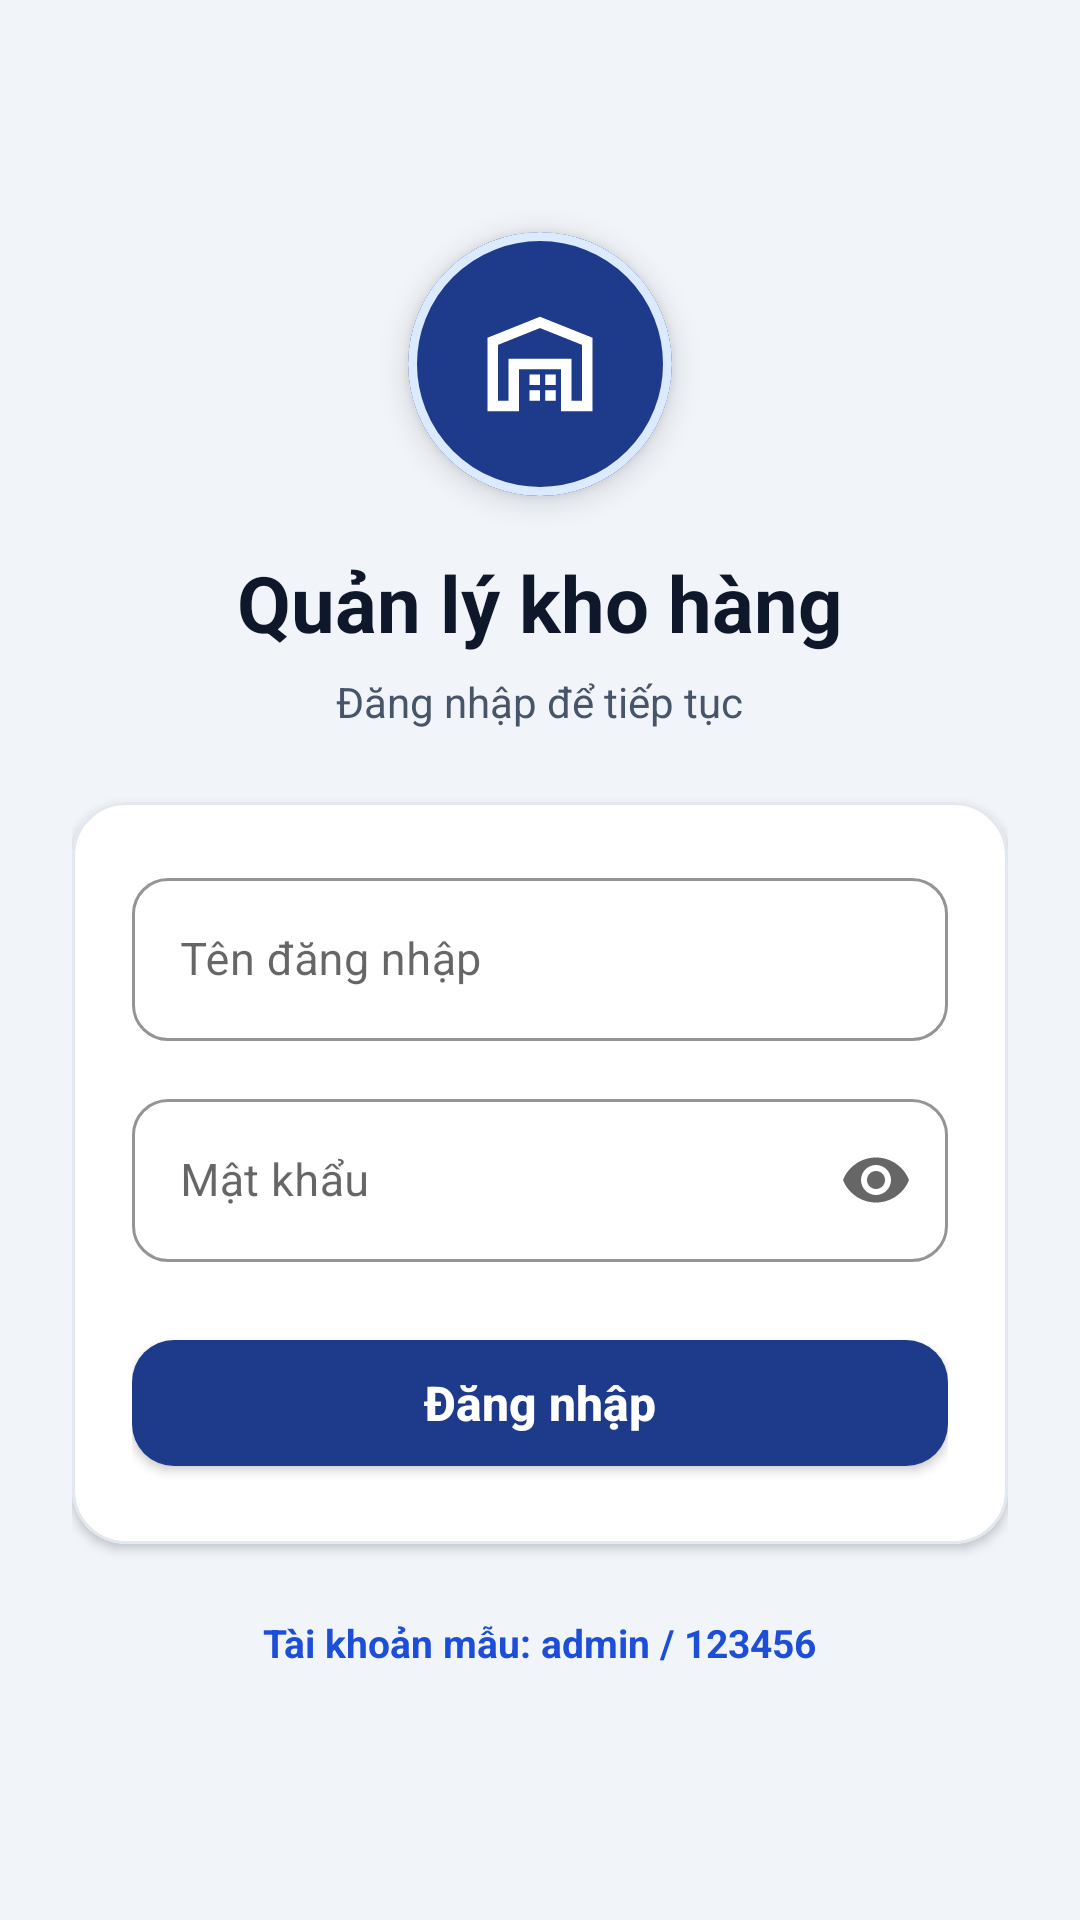

Where to tap for icons on this 1080 x 1920 app screen, as [x,y]:
warehouse: [540,364]
